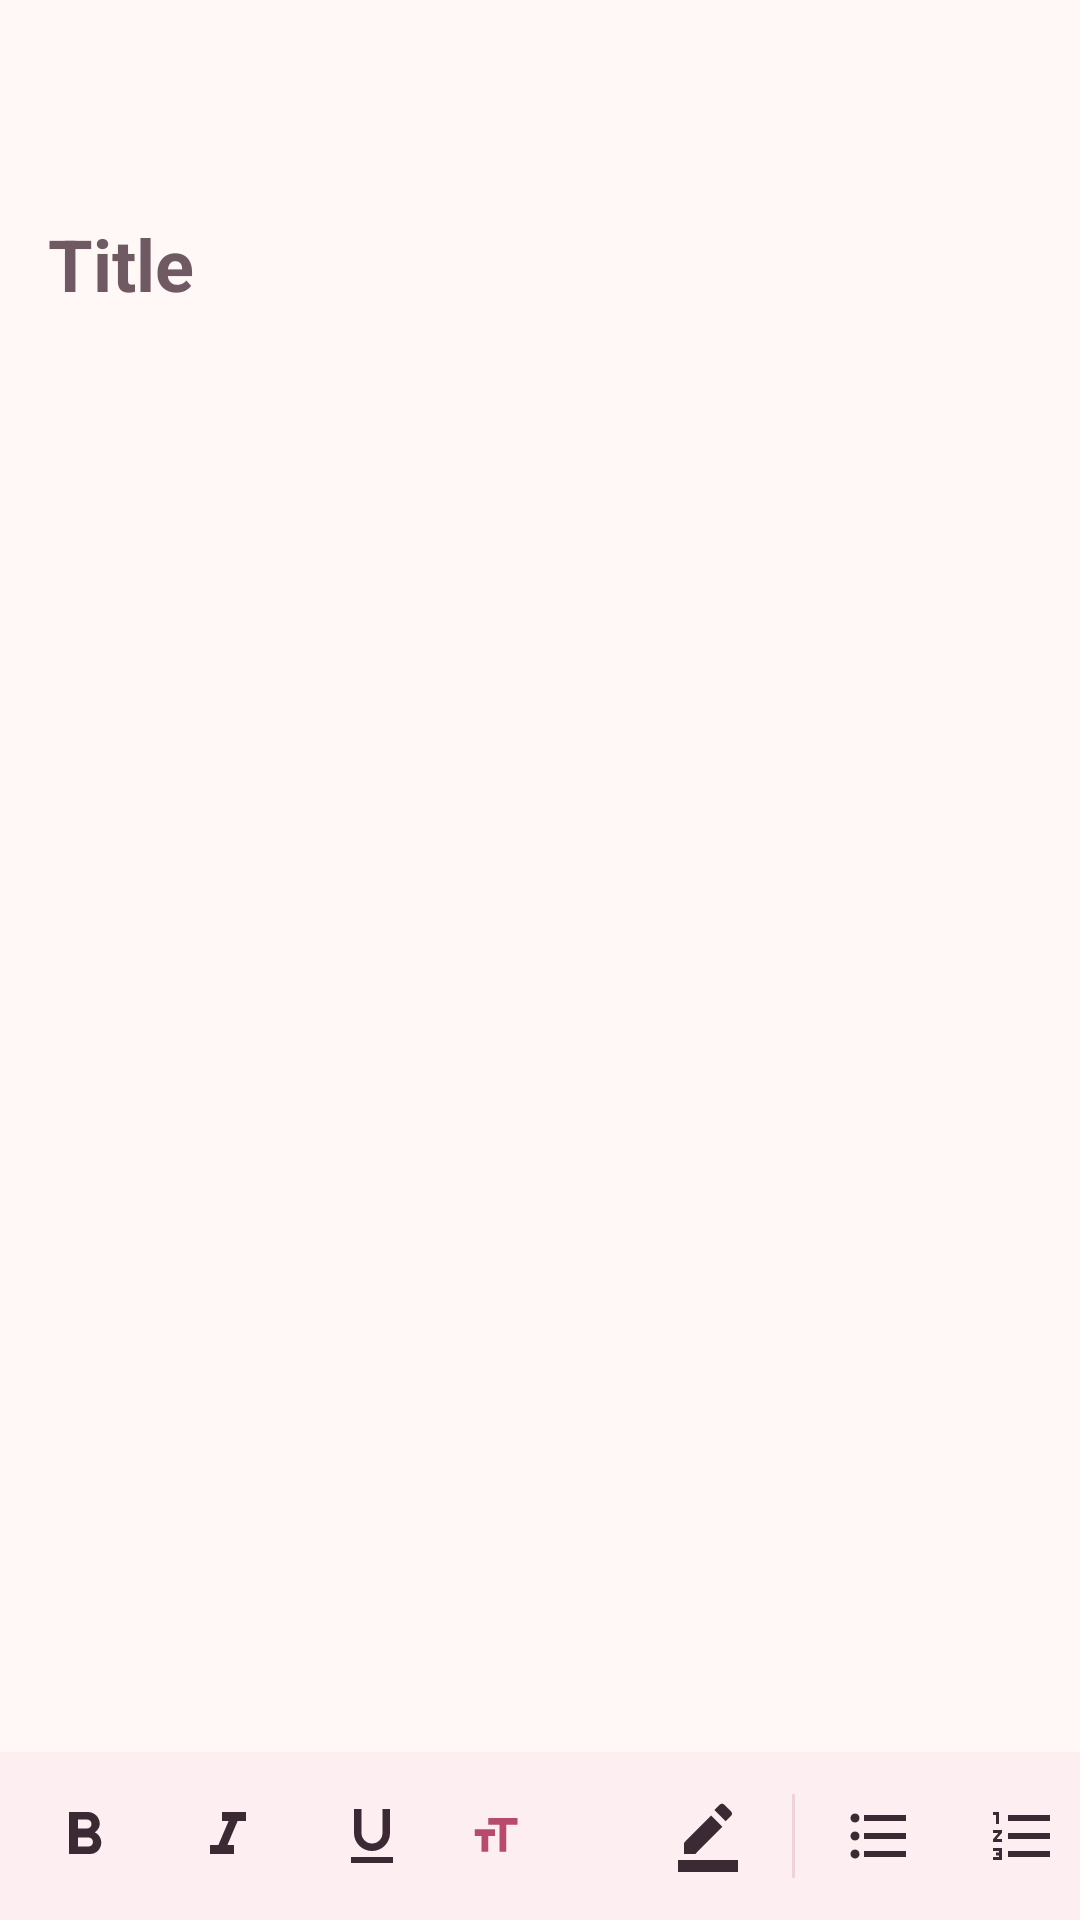

Locate icon controls on the screen. Image size 1080 x 1920, boxes as (x1, y1, x2, y2).
Bold: (69, 1812, 102, 1854)
Bulleted list: (850, 1813, 906, 1859)
Highlight: (678, 1803, 738, 1872)
Italic: (210, 1812, 246, 1854)
Text size: (474, 1818, 518, 1852)
Underline: (351, 1809, 393, 1863)
